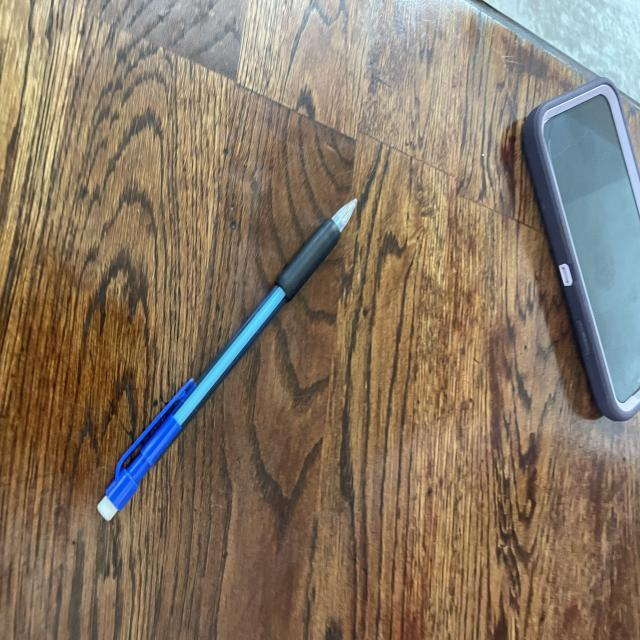mechanical-pencils: (92, 192, 363, 536)
